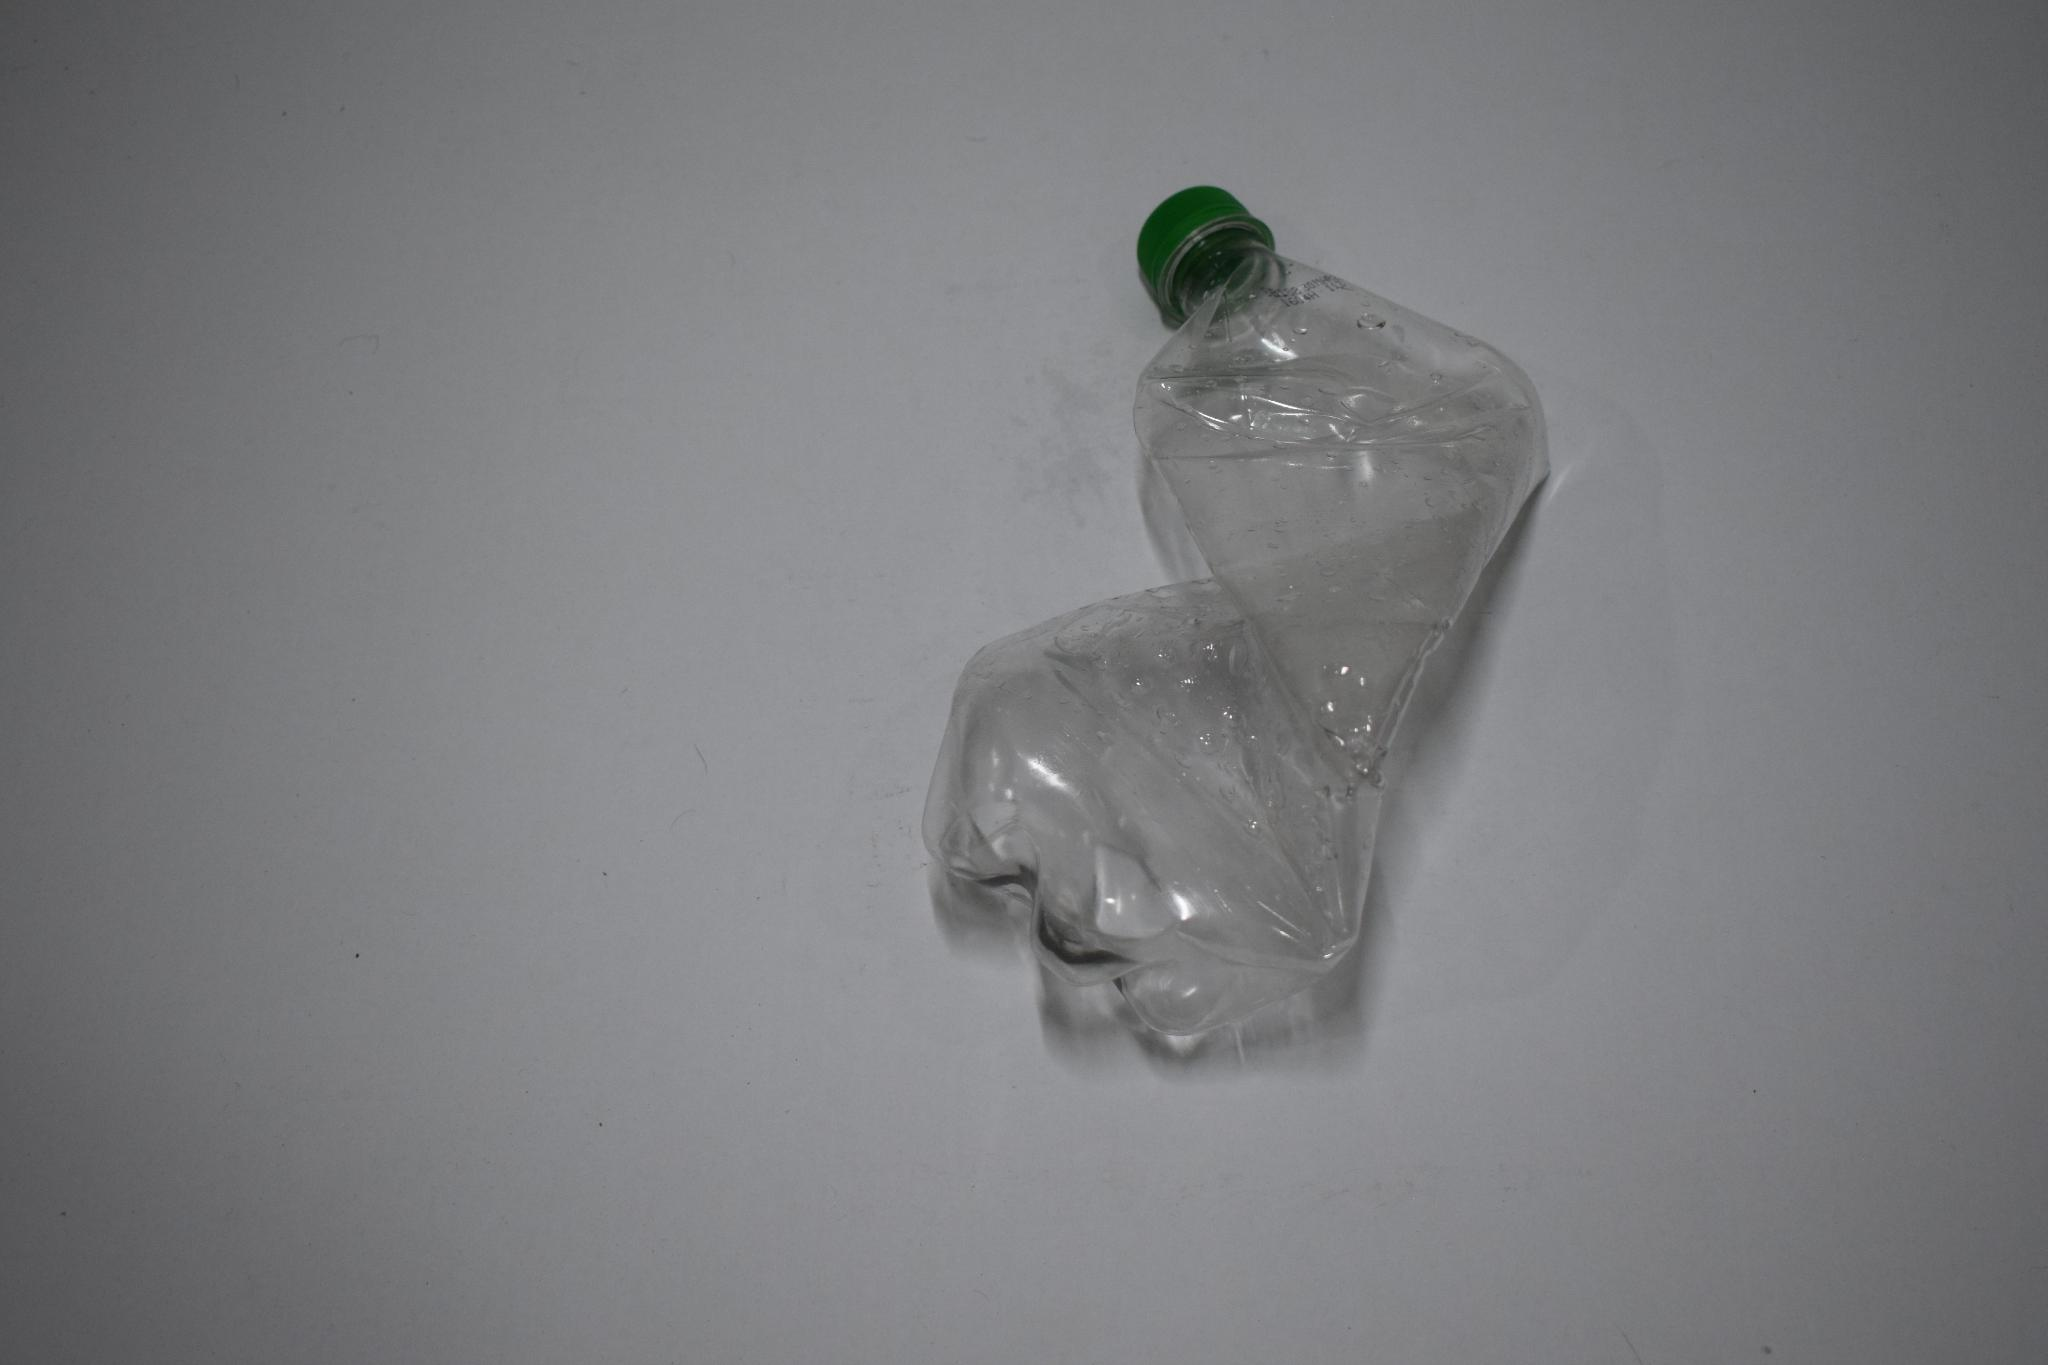bottle: (936, 174, 1550, 1047)
